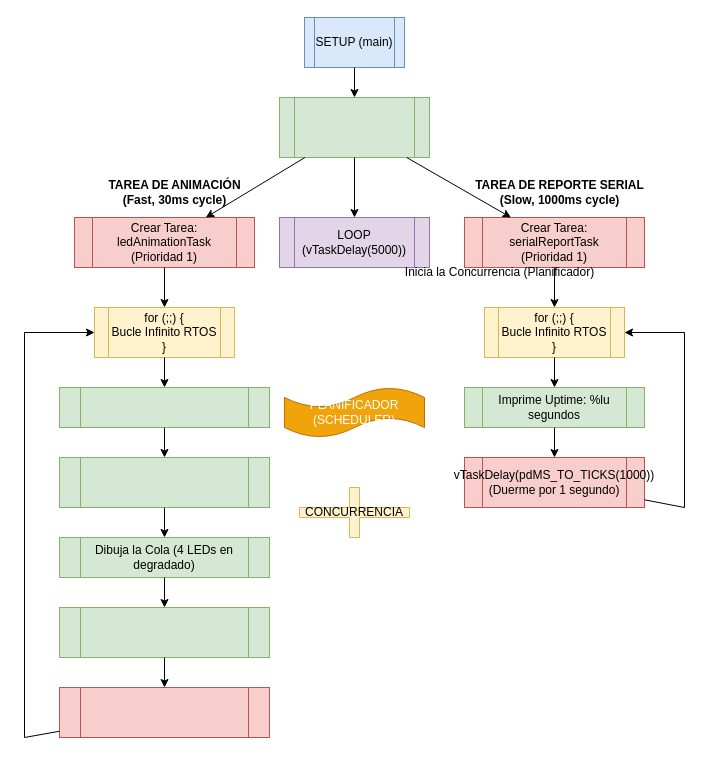
Some shapes in this 710 by 763 pixel diagram are drawn without their labels. The shapes that lost their labels are listed below. From the top down, each one's centre as x and y in pixels, then its label:
At pixel 354 127: "Serial.begin(115200) strip.begin() strip.show()".
At pixel 164 407: "Reinicia y Mueve la Posición del Cometa (head)".
At pixel 164 482: "strip.setPixelColor(head, color) Dibuja la Cabeza Azul".
At pixel 164 632: "strip.show() (Actualiza la Tira de LED)".
At pixel 164 712: "vTaskDelay(pdMS_TO_TICKS(30)) (Duerme por 30 ms)".
